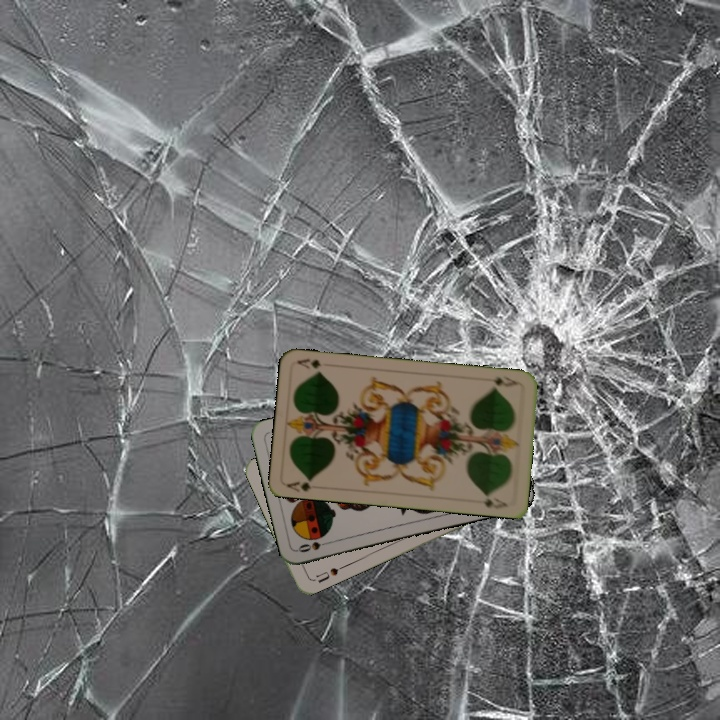GA: (482, 371, 523, 390), (283, 474, 315, 494)
SO: (294, 537, 334, 555)
SU: (309, 561, 347, 585)
